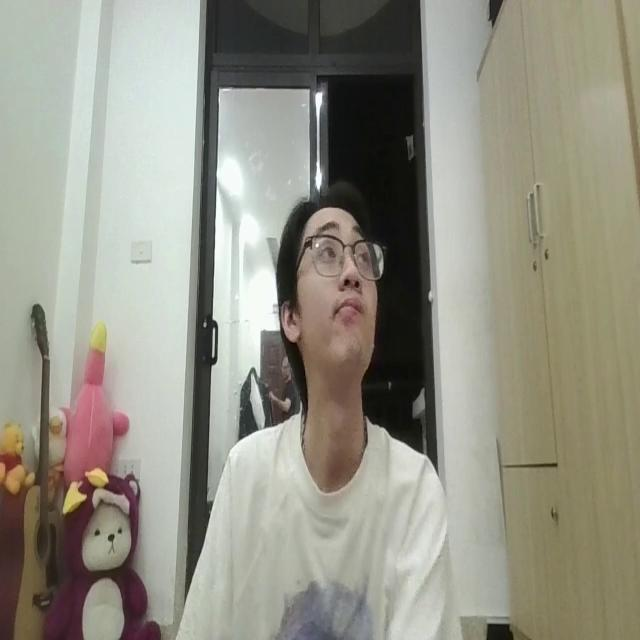student: (184, 184, 467, 640)
